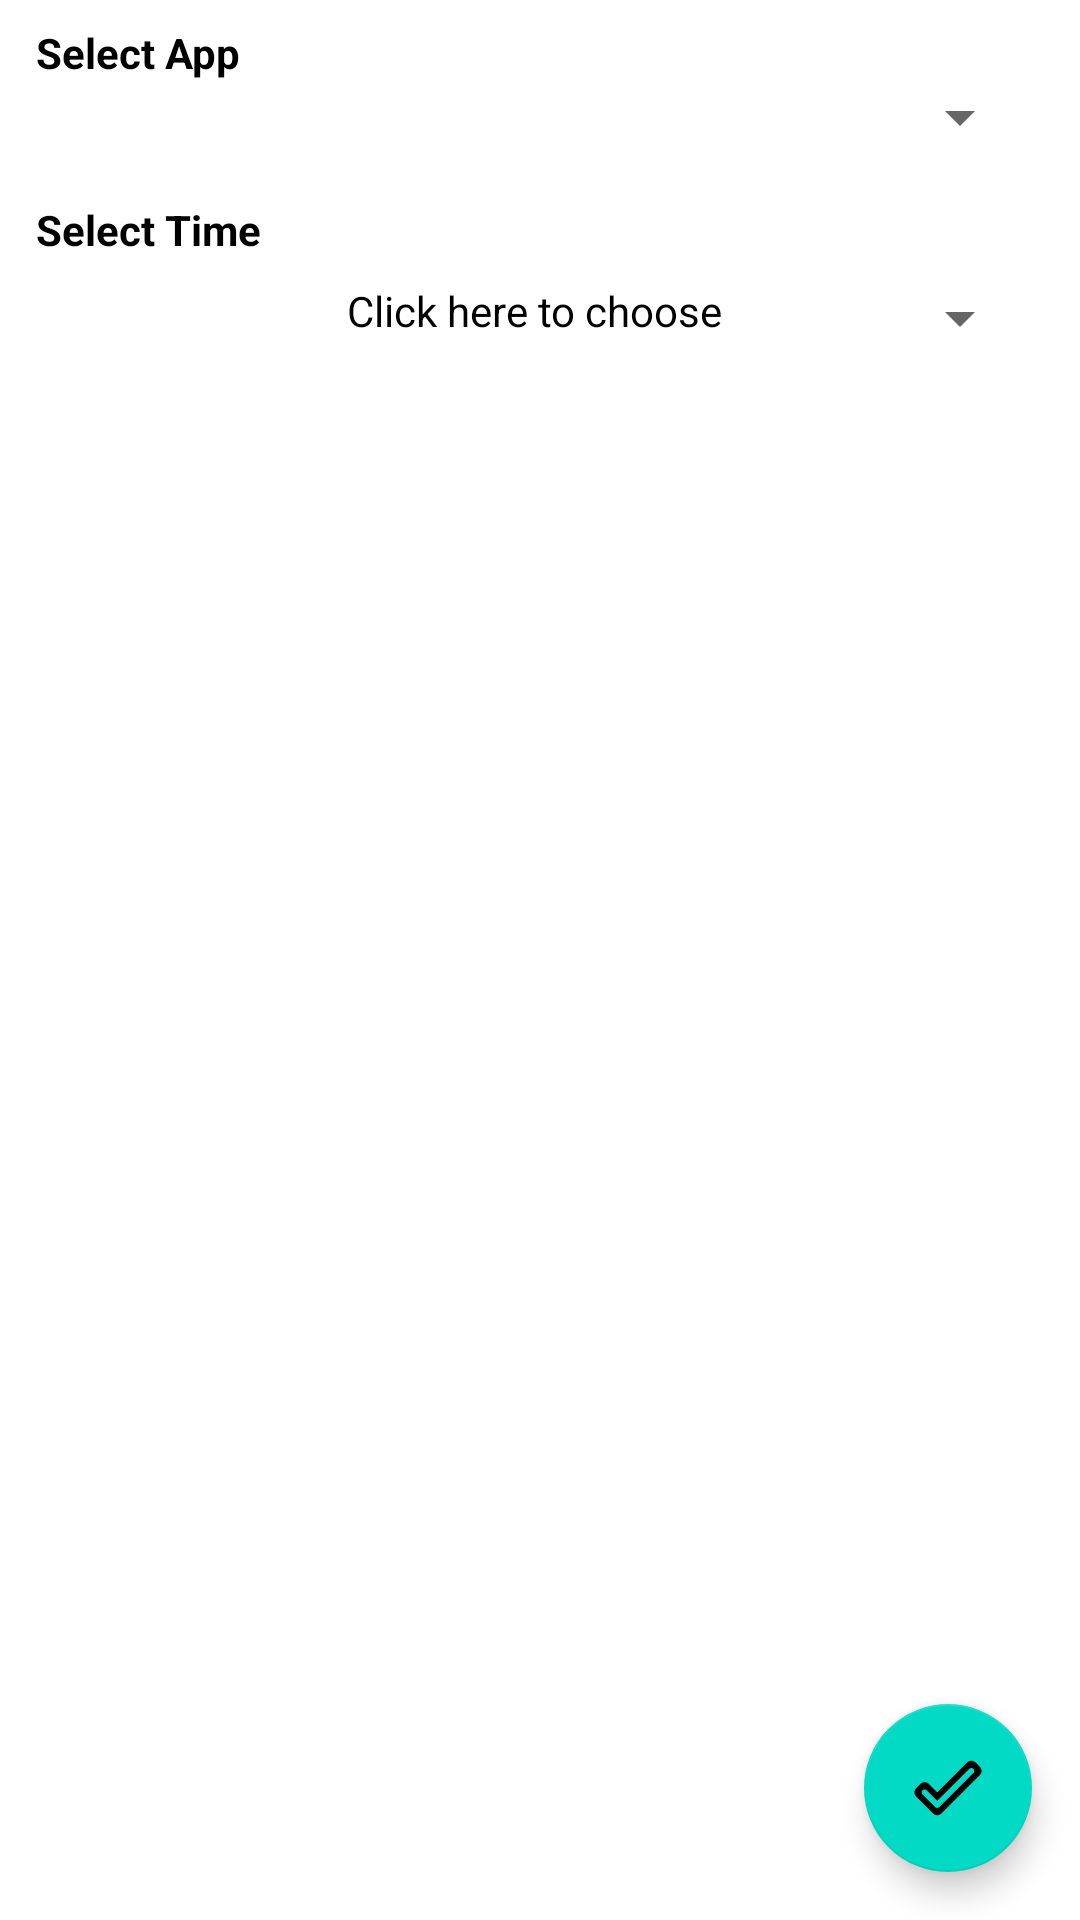

Screen size 1080 x 1920. Icon name, then its box in pixels as (x1, y1, x2, y2):
done: (864, 1704, 1032, 1872)
